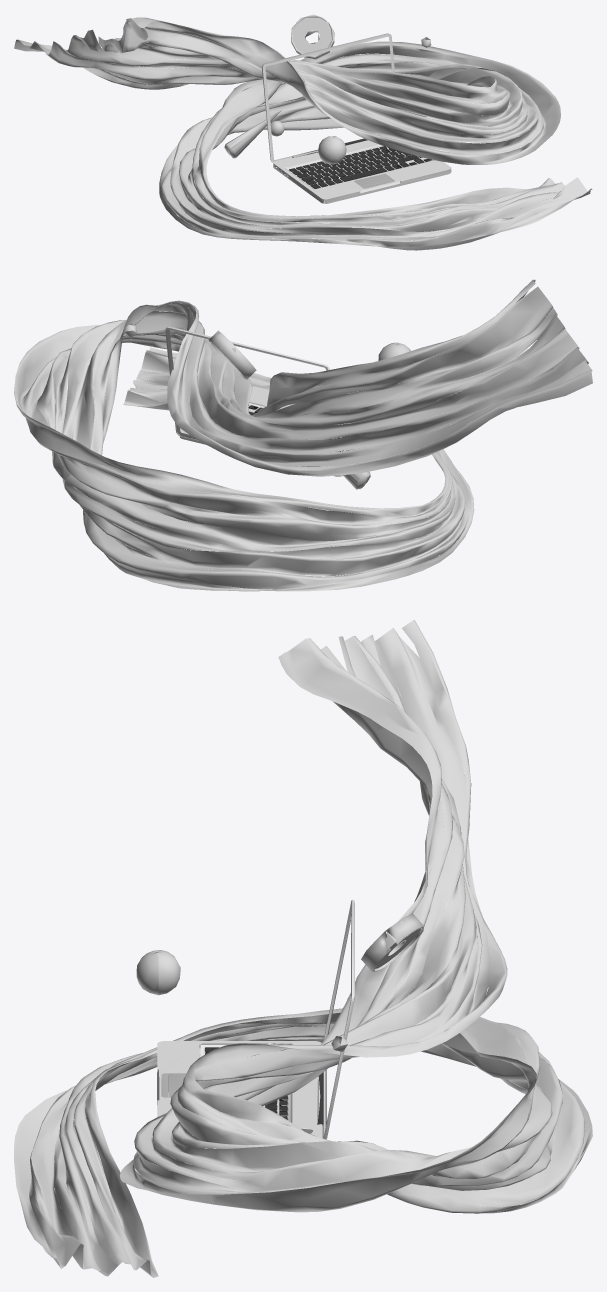
The model's file is Laptop-transformed.glb.
The picture shows the model from 3 angles, top to bottom: view 1: azimuth 30°, elevation 25°; view 2: azimuth 150°, elevation 25°; view 3: azimuth 270°, elevation 25°; orthographic projection. The views are drawn at different scales.
Visible parts, largest first — view 1: Object_322; view 2: Object_322; view 3: Object_322.
Part boxes in pixels (x1,y1,x2,y2): Object_322: (14, 14, 592, 250); Object_322: (14, 279, 592, 591); Object_322: (14, 620, 592, 1277).
Bounding box in the file's own units: 147 × 67.21 × 96.82.
1 material, 1 textured.
